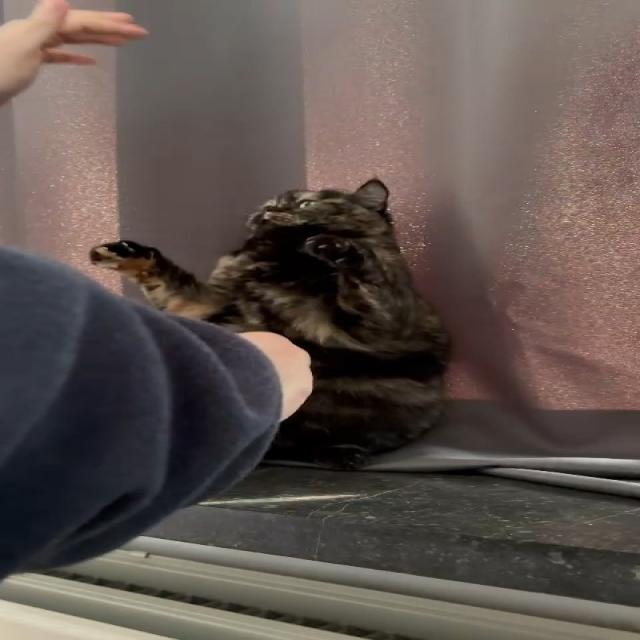authorized: (88, 177, 453, 471)
